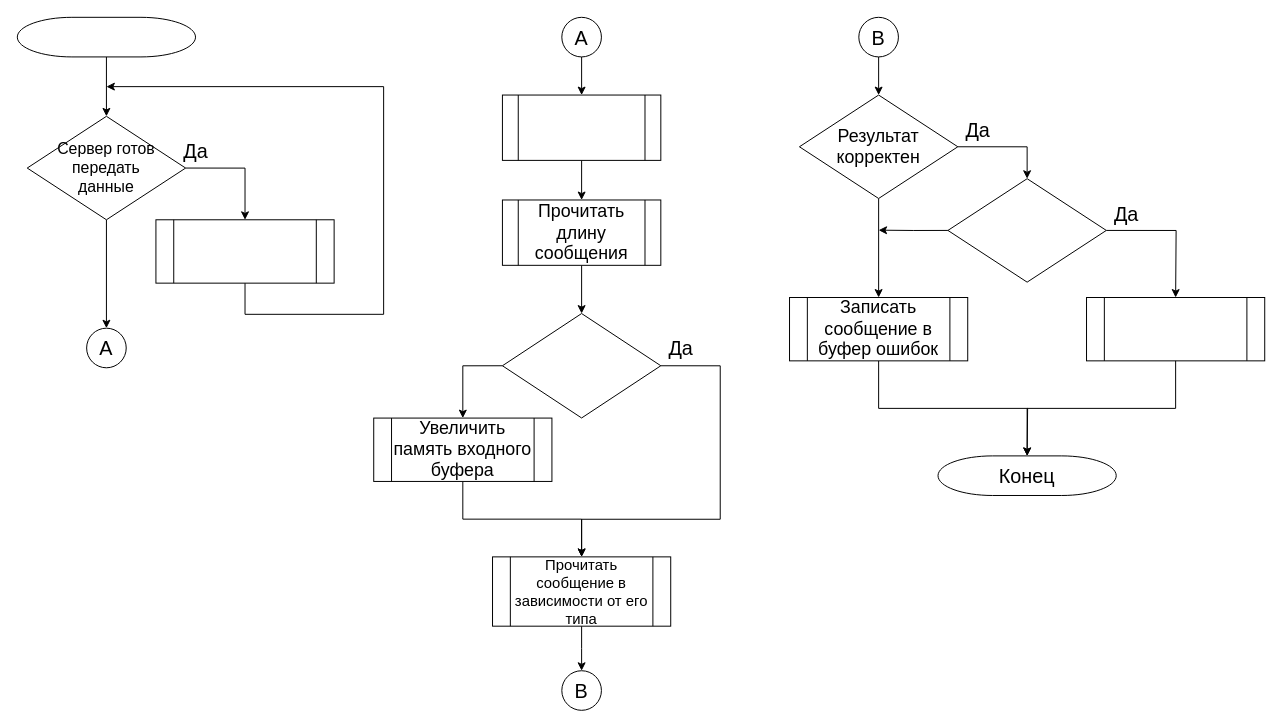
The diagram is 1282 pixels wide and 728 high, and some of its shapes have lost their labels. Here are the shapes that lost their labels. From the top down, the box of each, then its label:
(16, 16, 196, 57): Начало
(501, 94, 661, 160): Прочитать тип сообщения
(947, 178, 1106, 282): Соединение открыто
(155, 219, 334, 283): Запись данных от сервера в выходной буфер
(1086, 297, 1265, 361): Разблокировать мьютекс
(501, 313, 661, 418): Длина соответствует размеру буфера
